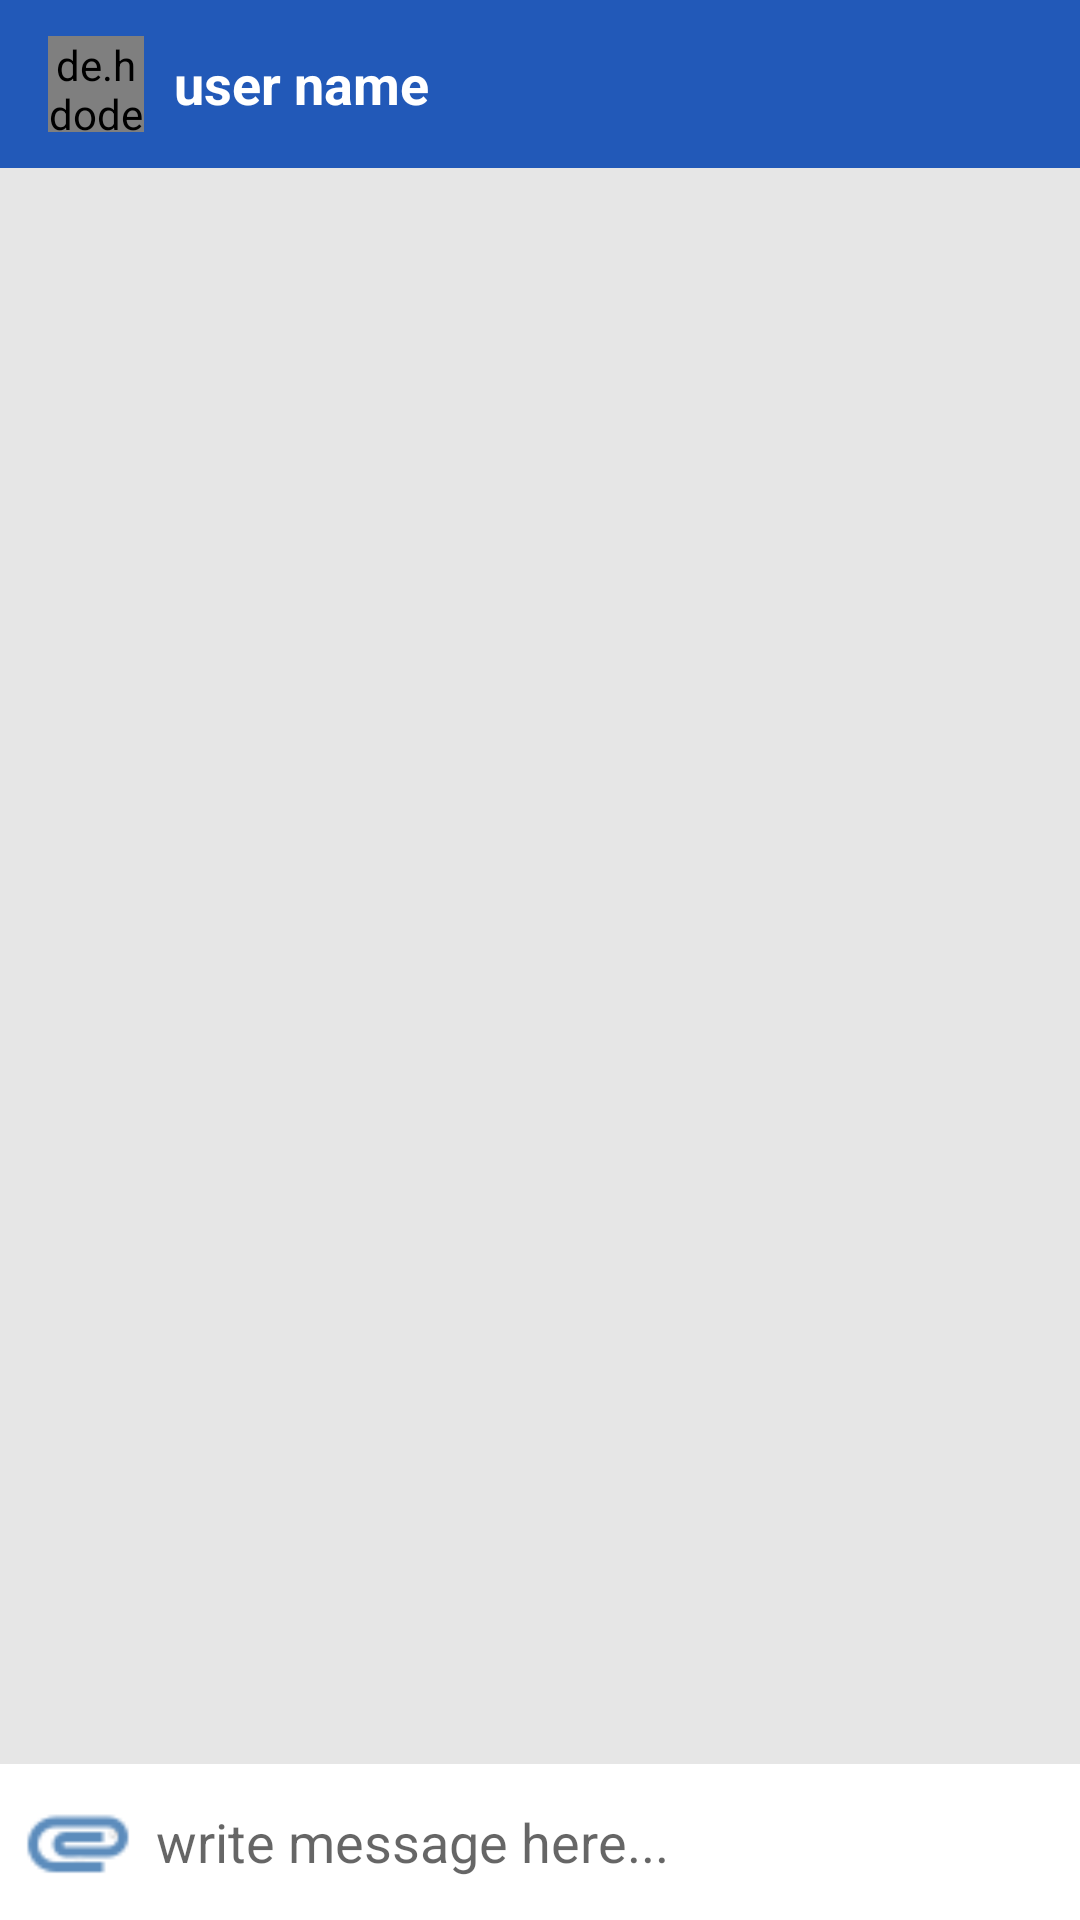

Icon click points for this 1080px x 1920px phone screenshot, format (x=x, y=y):
attach file: (x=78, y=1844)
